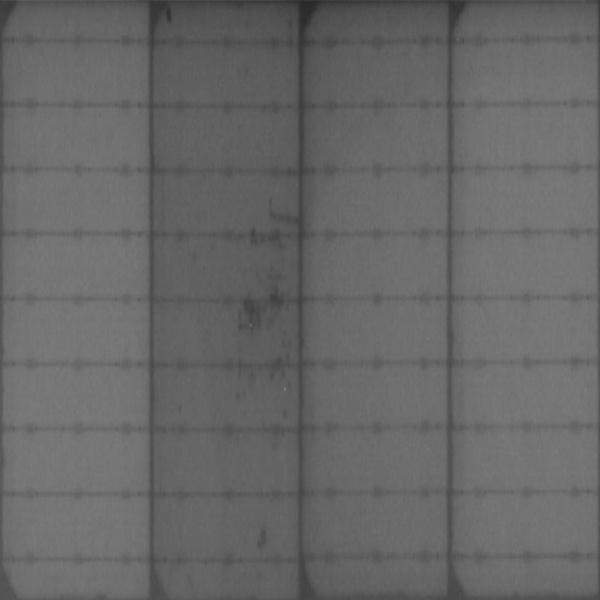scratch: (238, 301, 284, 332), (248, 226, 286, 260), (260, 266, 288, 300), (268, 202, 300, 227)
